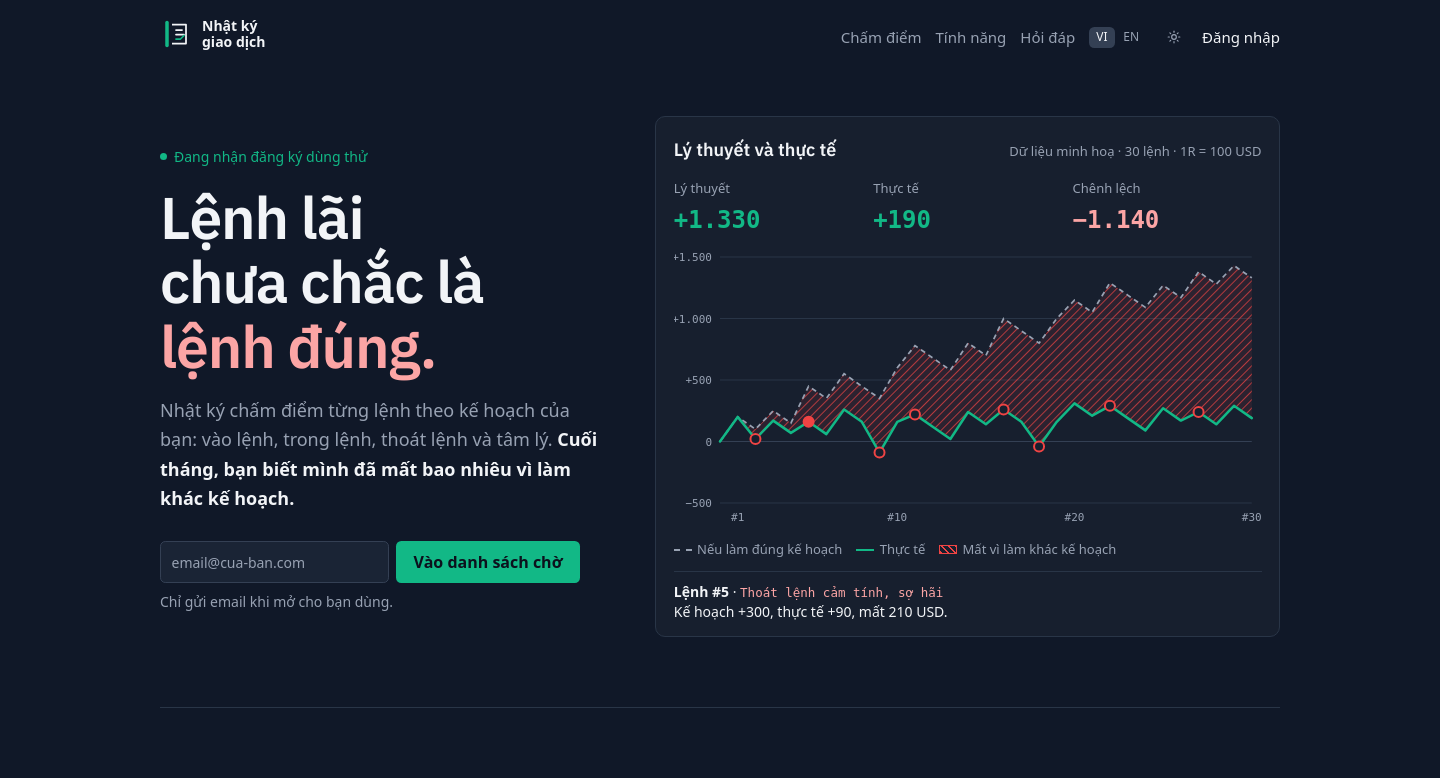
Test: shows the generic message on a server error
Type "toi@gmail.com" into the field labelled "email" at (275, 562), box [160,541,389,583]
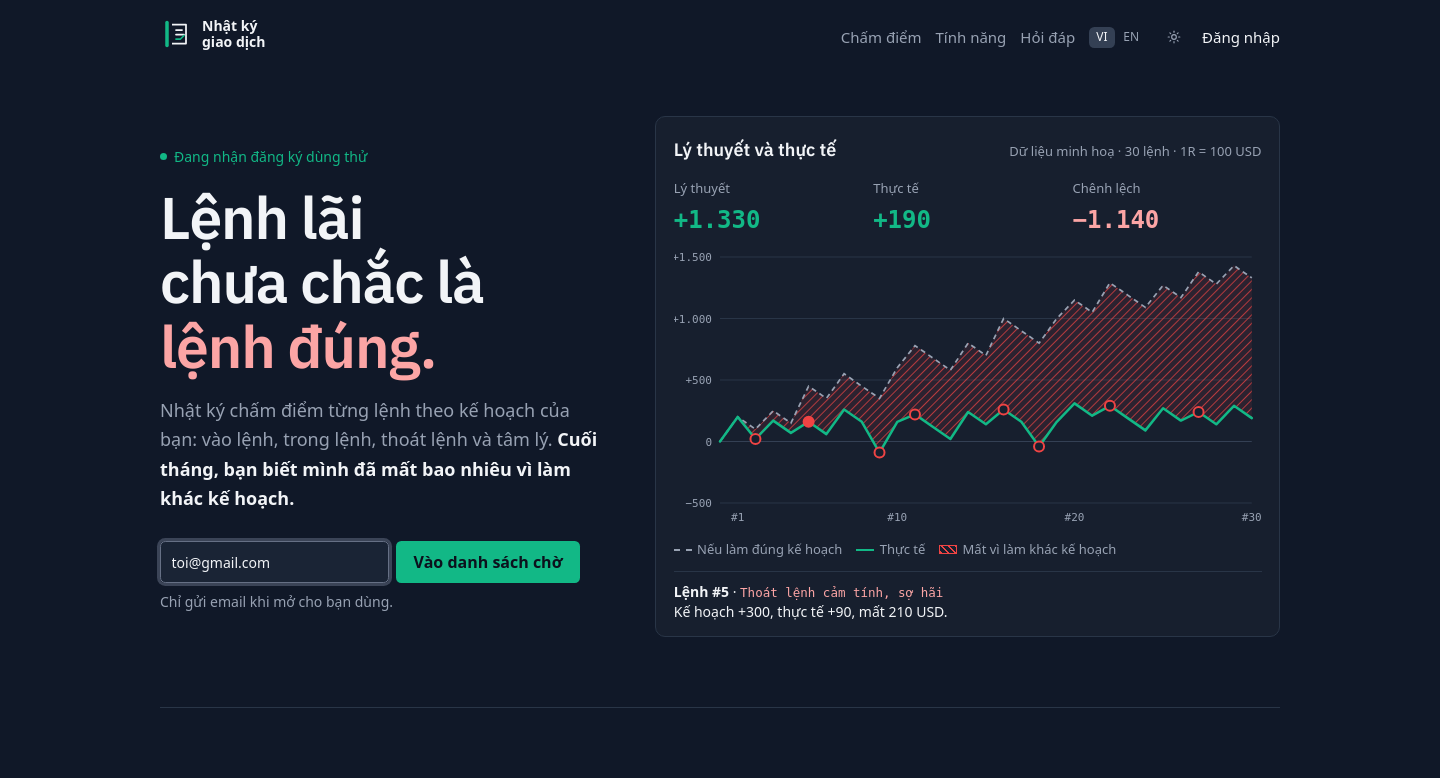
Click the button "Vào danh sách chờ" at (488, 562), box [396,541,580,583]
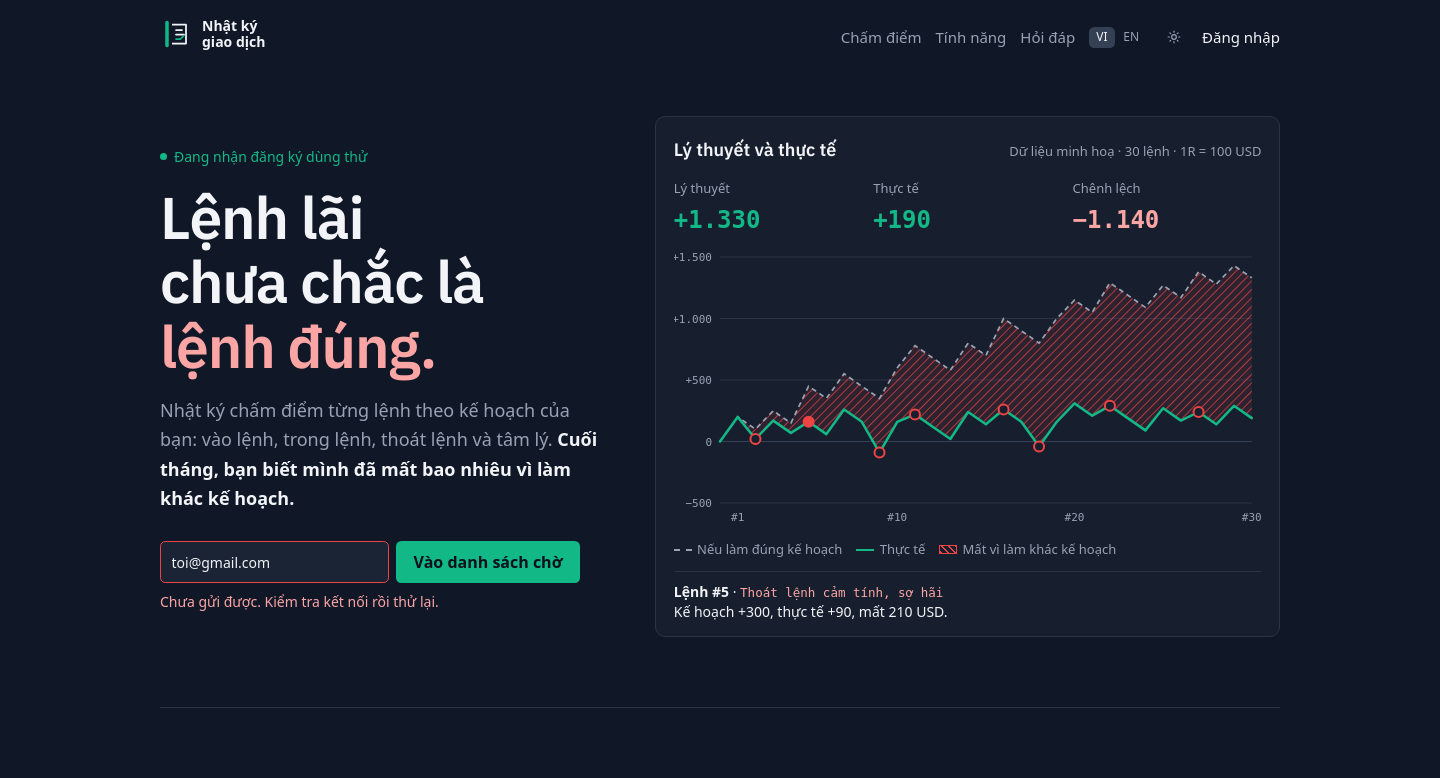
Check: the message reads "Chưa gửi được. Kiểm tra kết nối rồi thử lại.", box [160,592,439,611]
